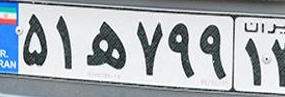character: (78, 15, 129, 76), (130, 14, 166, 82), (198, 22, 231, 82), (166, 18, 197, 80), (20, 12, 52, 71), (52, 10, 77, 72), (244, 34, 265, 87), (272, 36, 285, 89)
